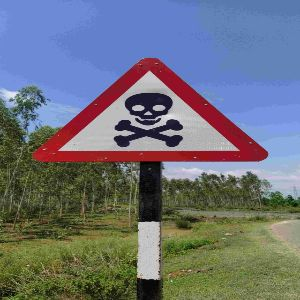Accident prone area: (26, 53, 275, 174)
